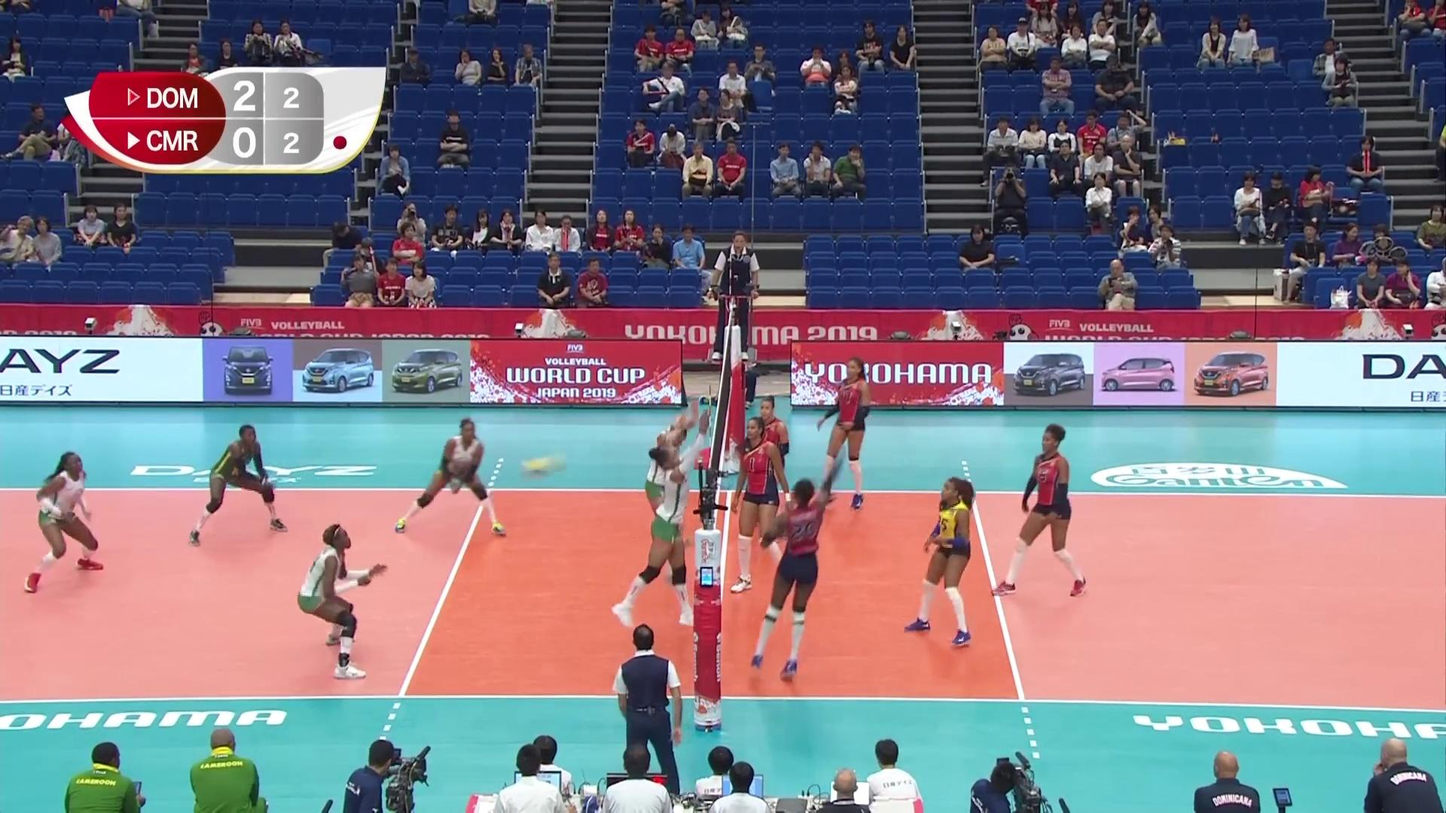player: (610, 421, 706, 632), (752, 467, 839, 683), (995, 425, 1089, 598), (394, 420, 507, 536), (733, 417, 807, 594), (300, 527, 386, 678), (906, 479, 976, 647), (193, 425, 287, 543), (26, 451, 104, 591), (649, 400, 702, 601), (814, 355, 871, 514), (743, 394, 789, 547)
refree: (612, 628, 679, 797), (712, 232, 760, 359)
